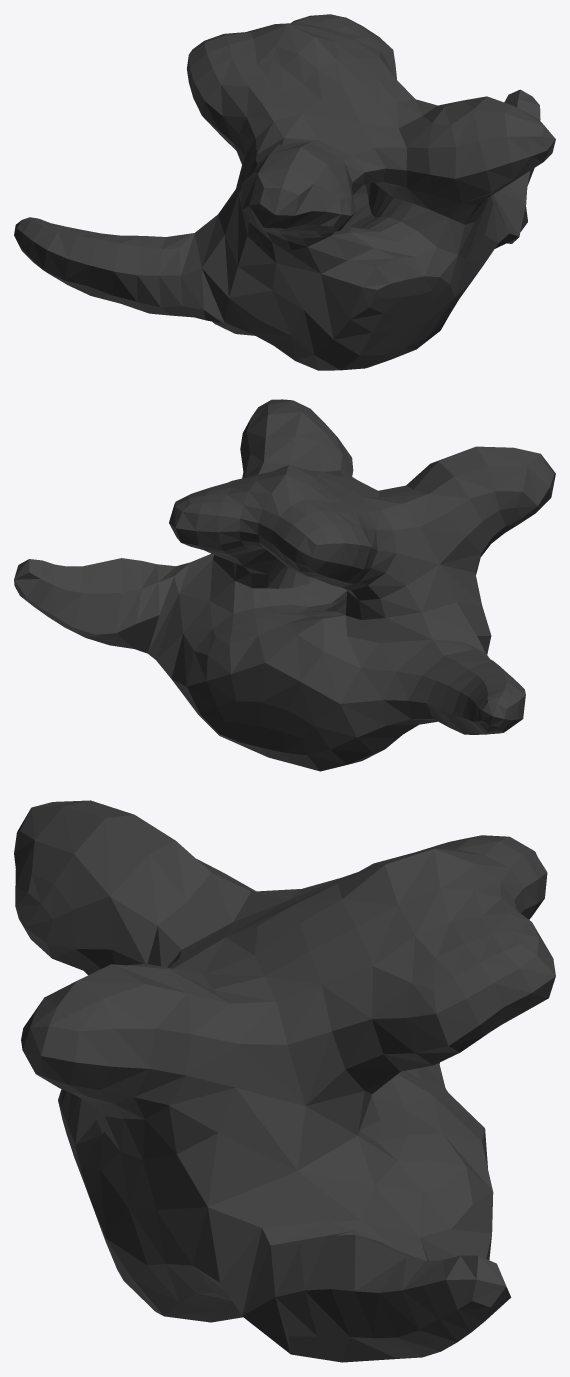
3 renders of one model, top to bottom at view 1: azimuth 30°, elevation 25°; view 2: azimuth 150°, elevation 25°; view 3: azimuth 270°, elevation 25°, orthographic. The views are drawn at different scales.
Parts seen in each view (by area): view 1: Co2; view 2: Co2; view 3: Co2.
Part boxes in pixels (x1=…): Co2: x1=14, y1=14, x2=555, y2=370; Co2: x1=14, y1=399, x2=555, y2=771; Co2: x1=14, y1=800, x2=555, y2=1362.
Bounding box in the file's own units: 1.84 × 1.02 × 1.06.
Materials: 1 (1 with a texture image).
